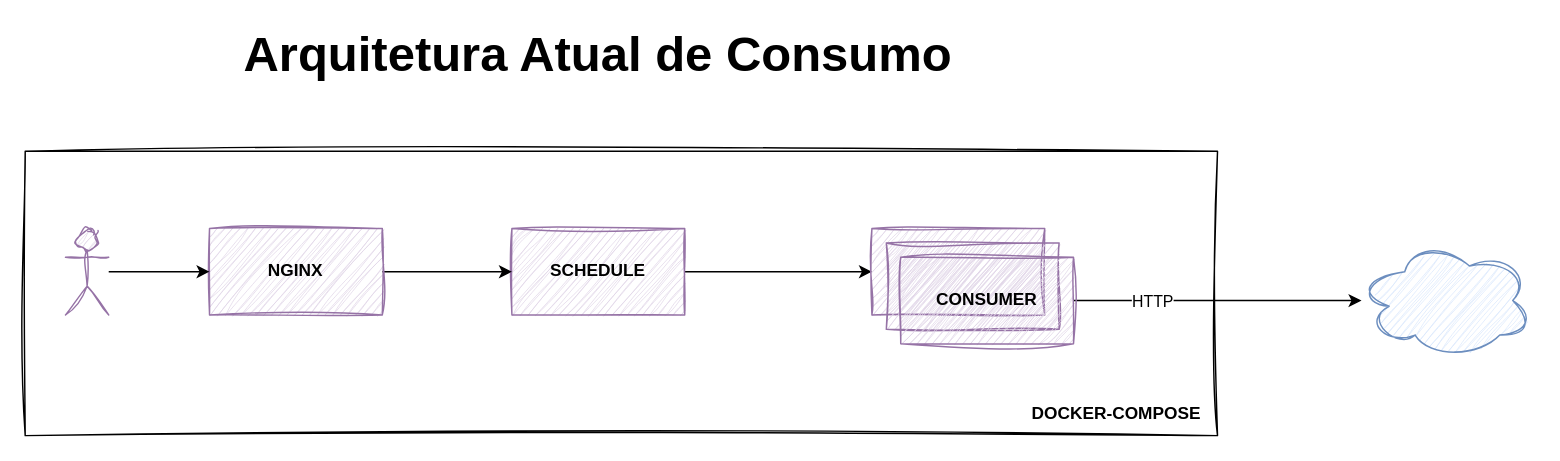
Image size: 1560x461. Some labels were removed from this diagram. Each missing label, with the centre of its shape:
"EXECUTOR" belongs at [86,271].
"INSTITUIÇÃO DESTINO" belongs at [1447,299].
